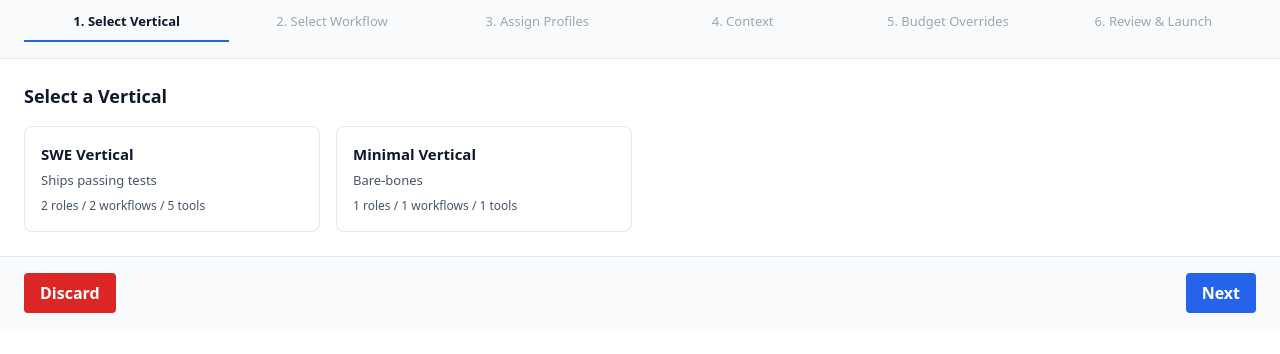
Test case: Wizard step 2 — Select Workflow › Next click patches session with the workflow and advances to step 3
Click the text "SWE Vertical" at (87, 154), box [41,144,134,164]
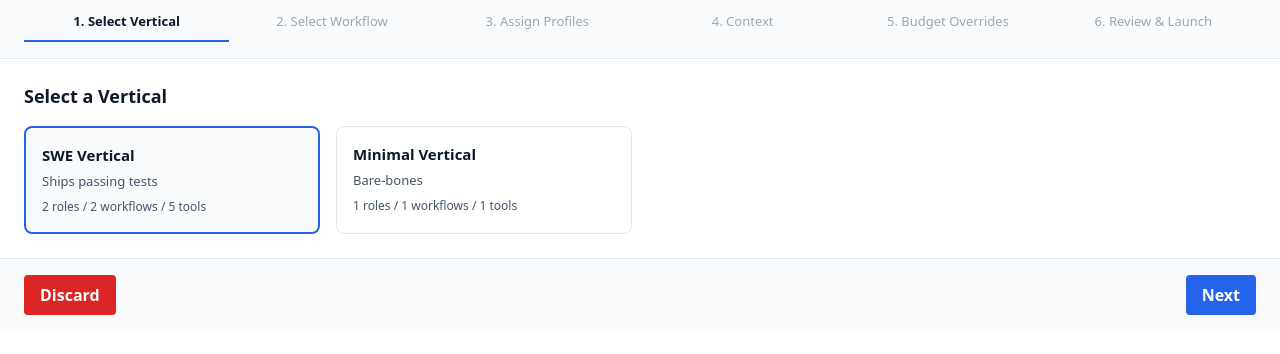
Click the button "Next" at (1221, 295), box [1186,275,1256,315]
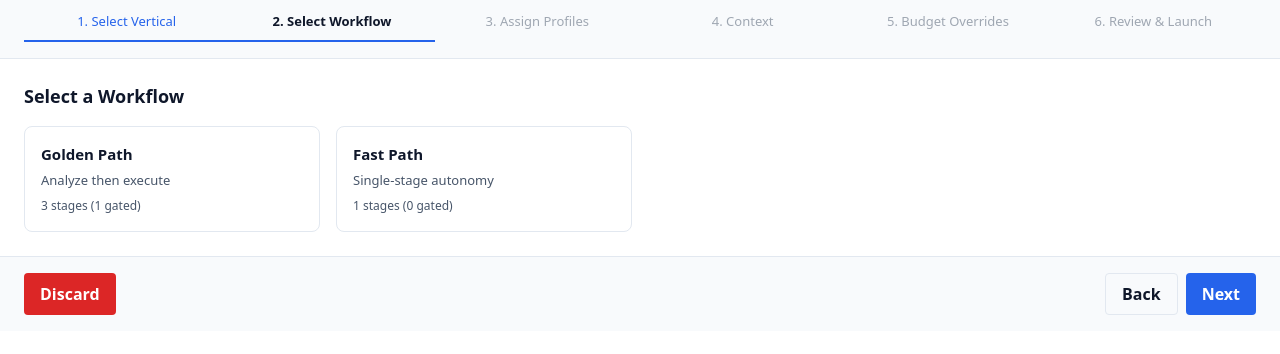
Now the heading "Select a Workflow" is shown, box [24,84,184,108]
Click the text "Golden Path" at (87, 154), box [41,144,133,164]
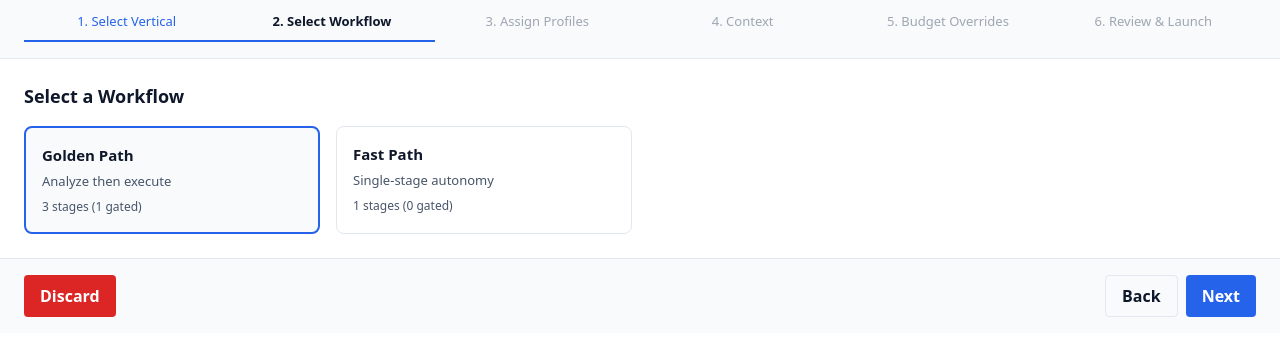
Click the button "Next" at (1221, 296), box [1186,275,1256,317]
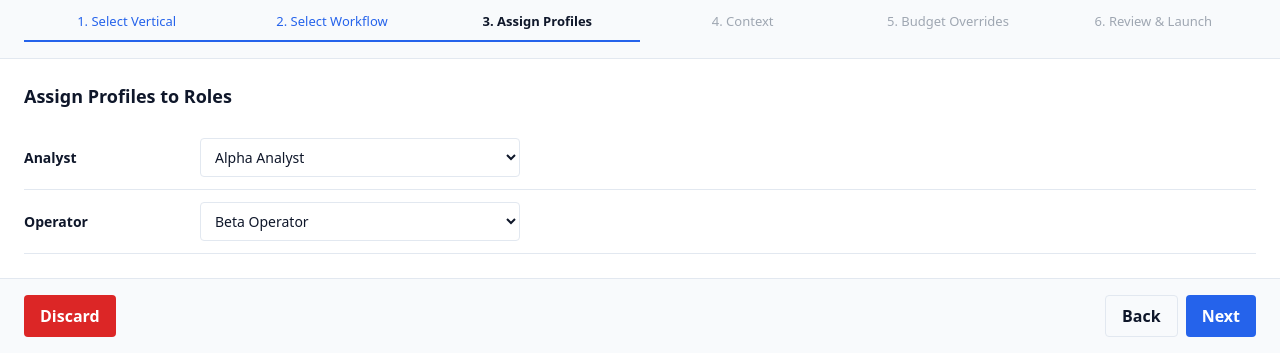
Now the heading "Assign Profiles to Roles" is shown, box [24,84,232,108]
